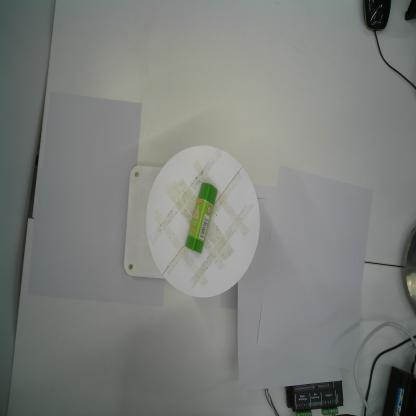Stationery: (184, 181, 219, 256)
